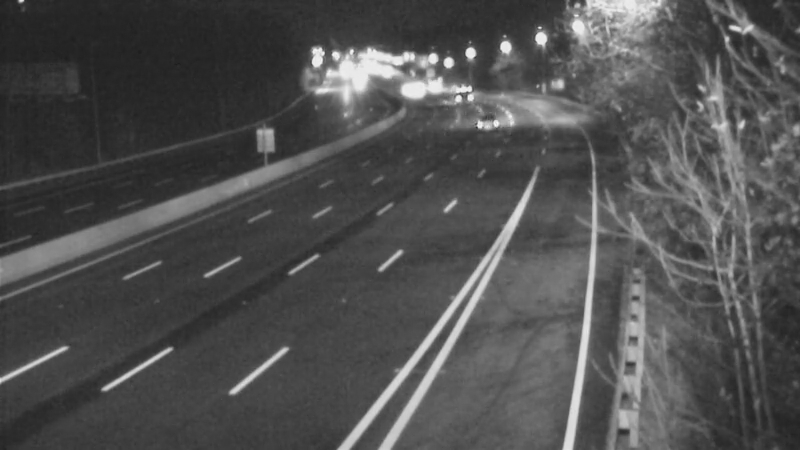vehicle: (436, 72, 486, 122), (459, 96, 509, 146)
